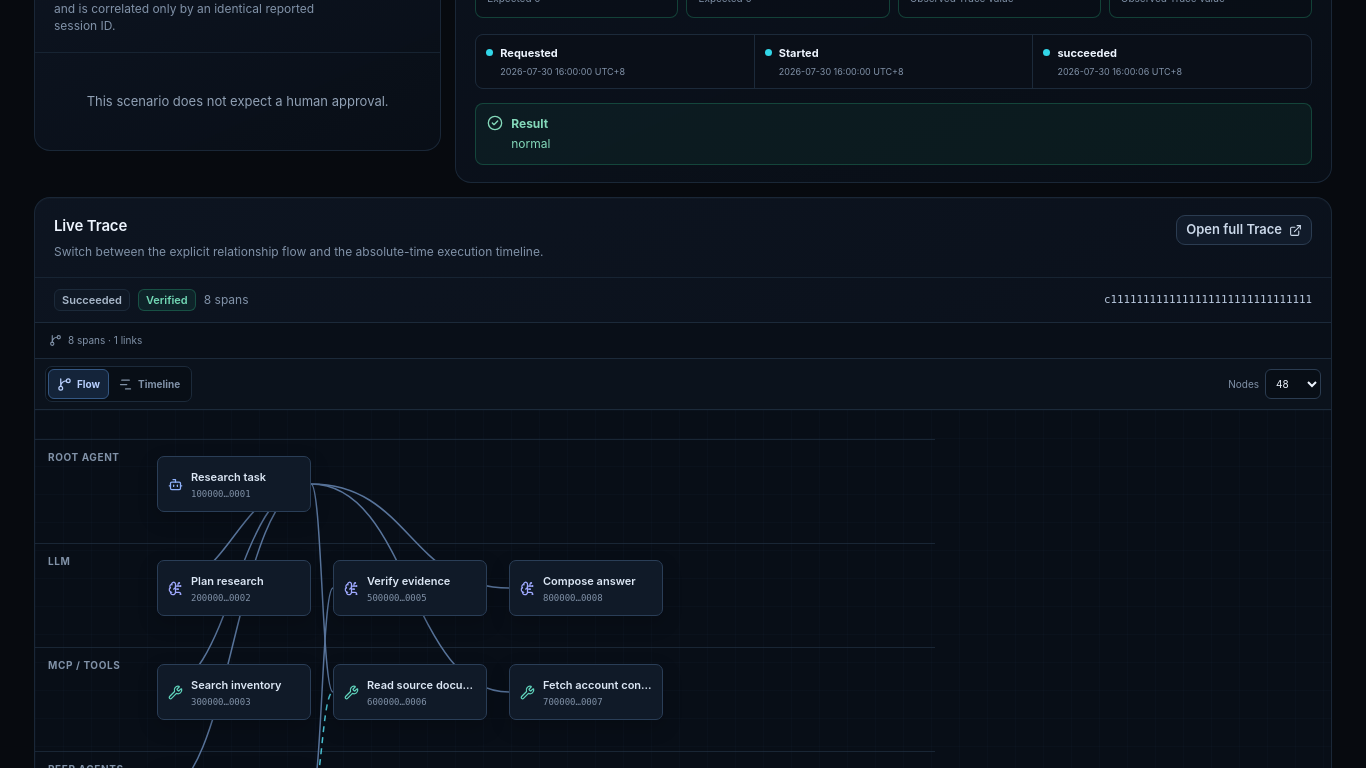
Test case: DemoLabPage › switches the shared Trace from Flow to Timeline and opens Span detail
(page scrolled)
Click the button "Timeline": (149, 384) x1=109 y1=369 x2=189 y2=399
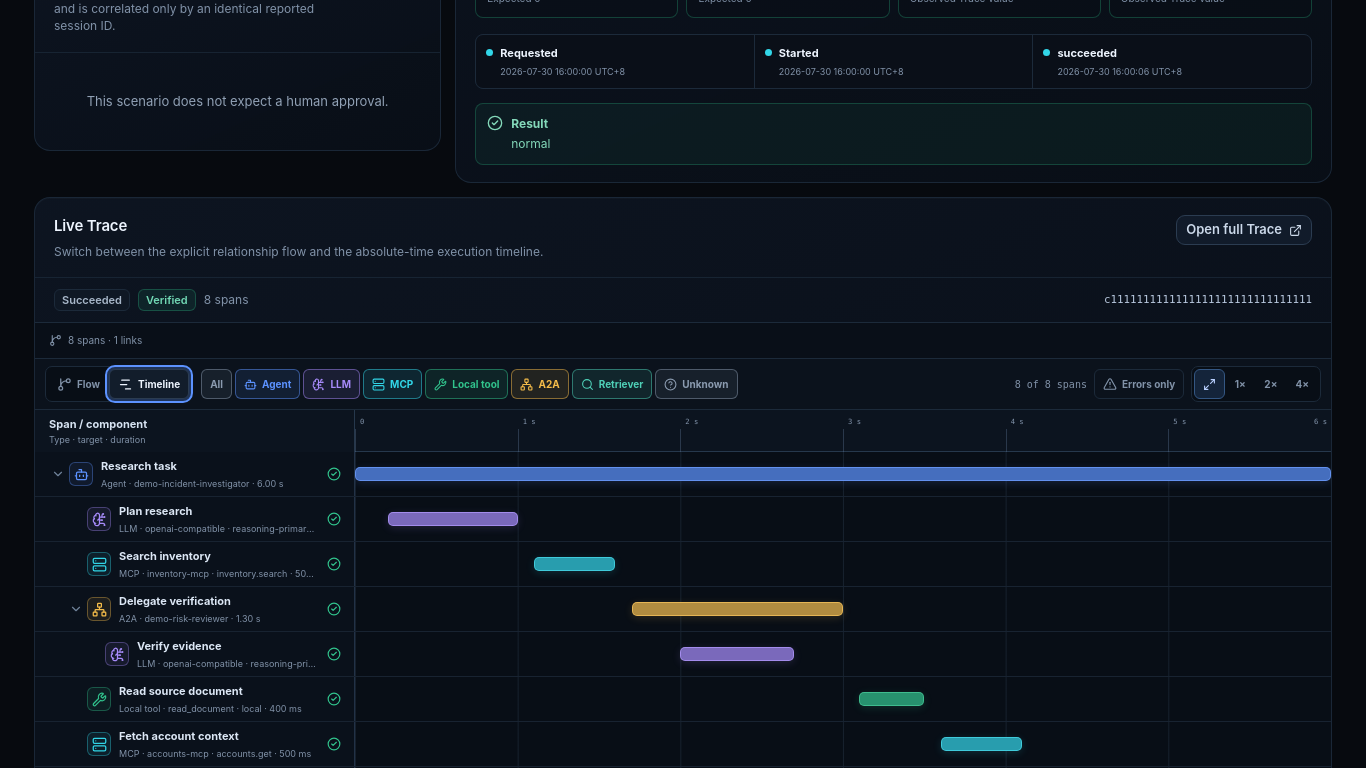
Click the button with aria-label "Open span Plan research": (216, 519) x1=87 y1=497 x2=344 y2=541
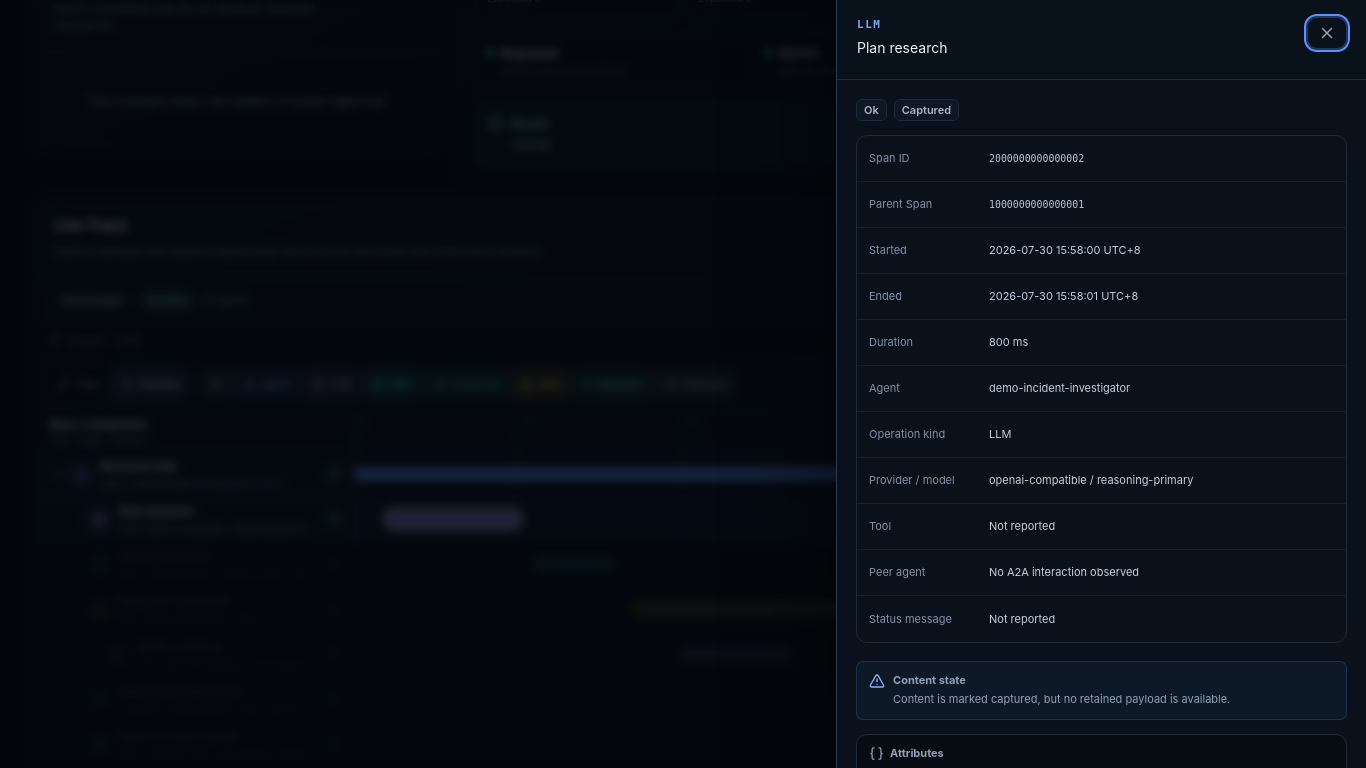
Expected: the dialog "Plan research" is shown, x1=836 y1=0 x2=1365 y2=767
